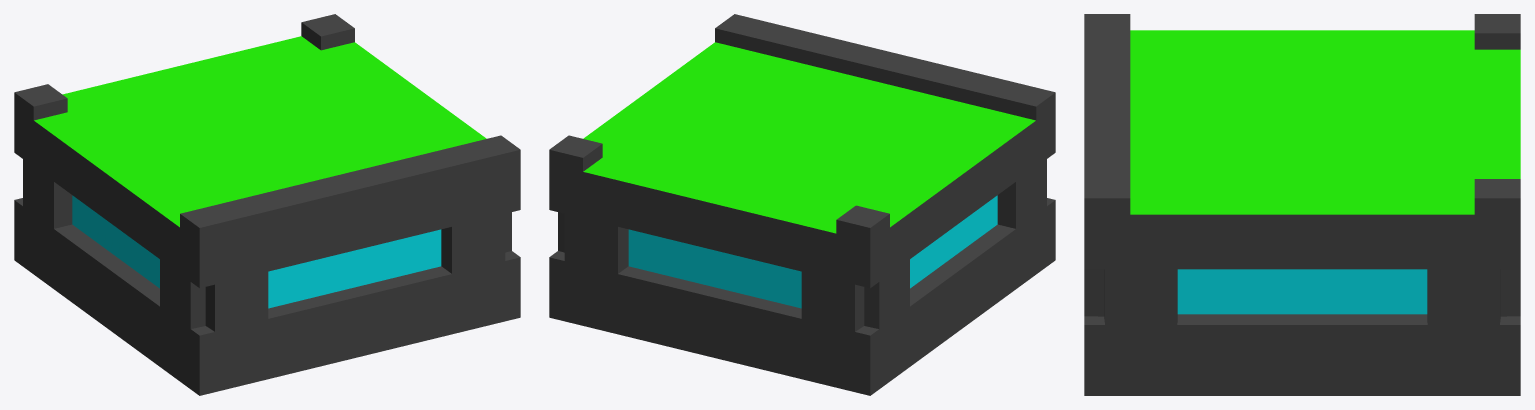
File: Platform T.fbx
The picture shows the model from 3 angles, left to right: view 1: azimuth 30°, elevation 25°; view 2: azimuth 150°, elevation 25°; view 3: azimuth 270°, elevation 25°; orthographic projection. The views are drawn at different scales.
Visible parts, largest first — view 1: Platform T; view 2: Platform T; view 3: Platform T.
Part boxes in pixels (bbox=[...]): Platform T: bbox=[14, 14, 520, 395]; Platform T: bbox=[549, 14, 1055, 395]; Platform T: bbox=[1084, 14, 1520, 395].
Bounding box in the file's own units: 200 × 99.98 × 200.
